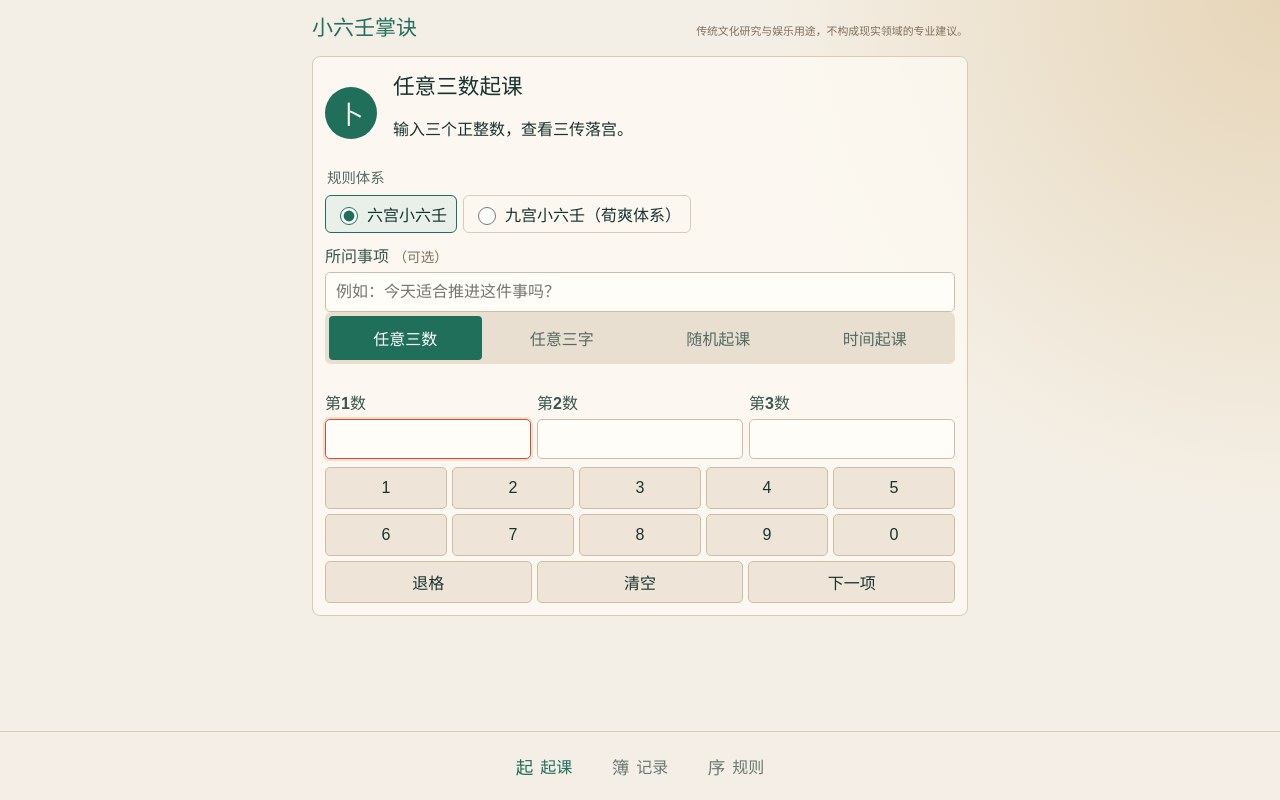
三数起课应用流程 › starts a random divination and exposes a compact change-set action
The width and height of the screenshot is (1280, 800).
Click the tab "随机起课" at x=718, y=338, box [642,316,794,360]
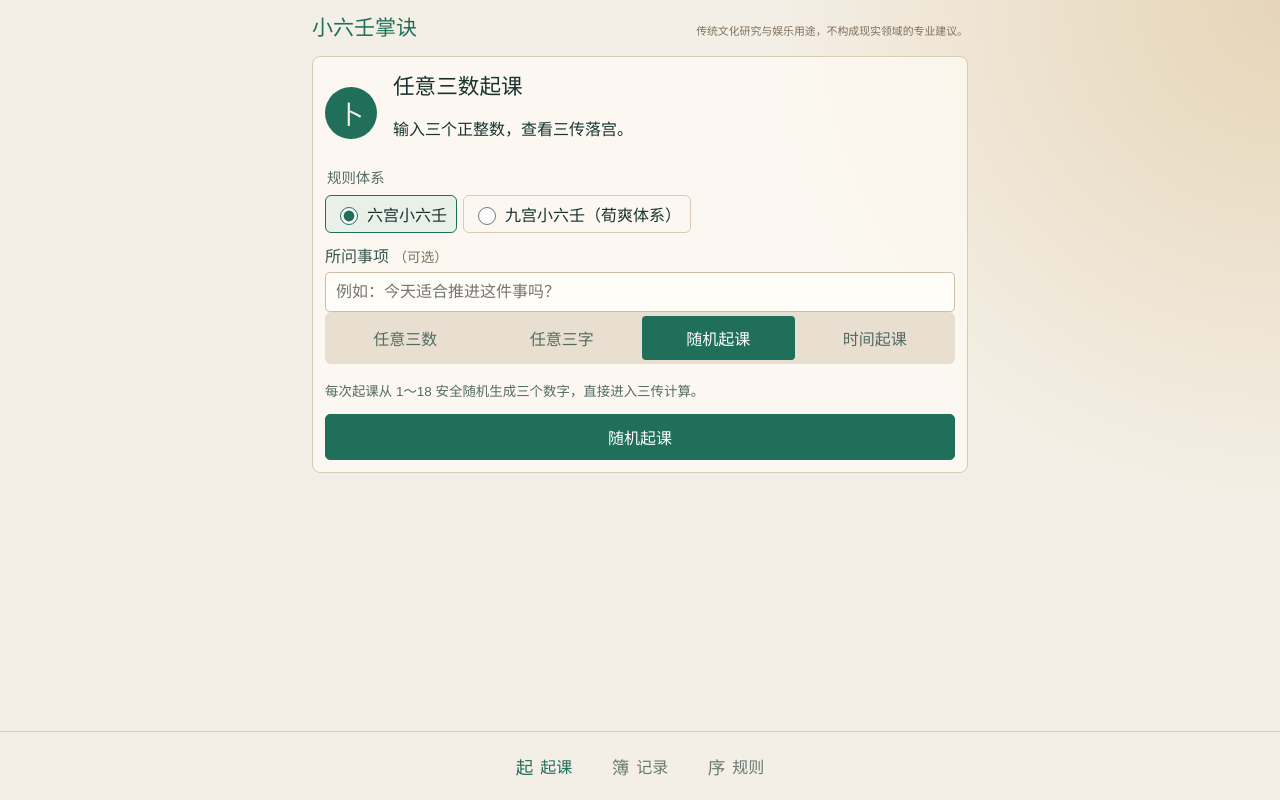
Click the button "随机起课" at x=640, y=437, box [325,414,955,460]
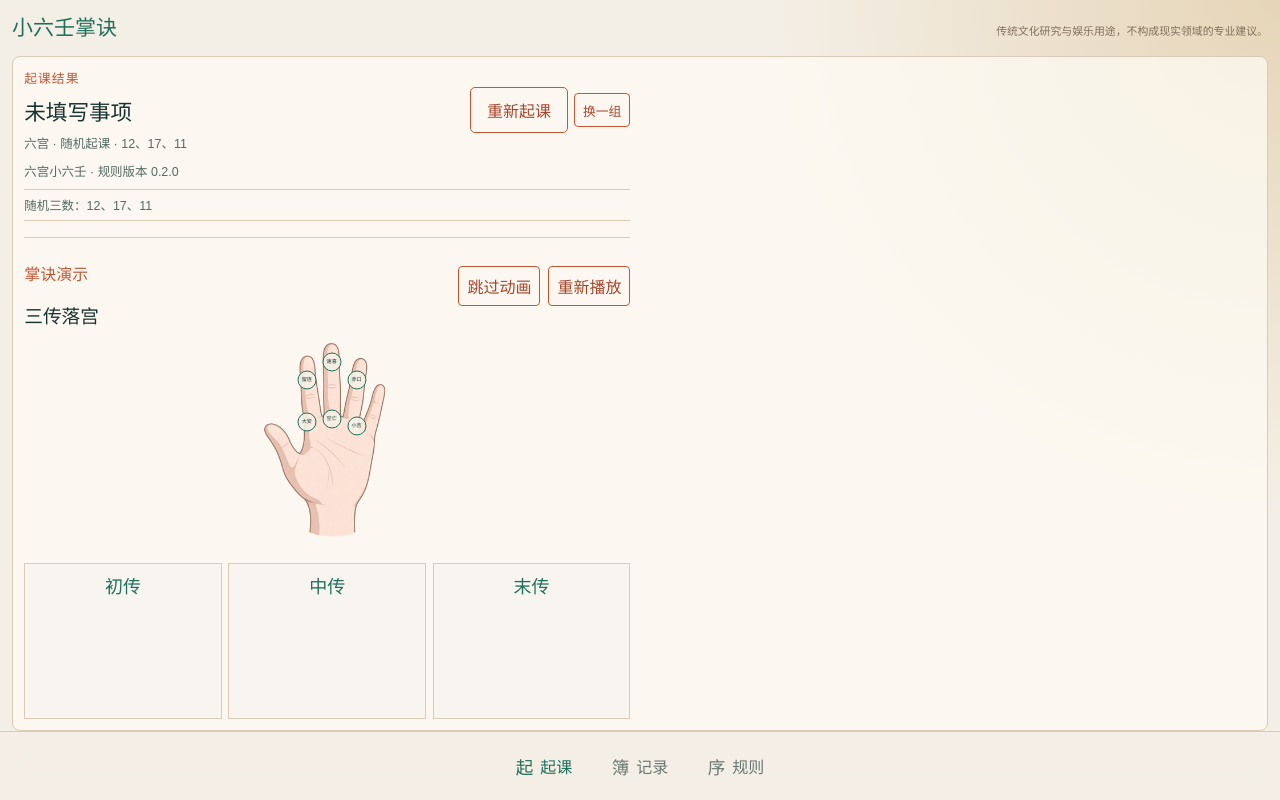
Click the button "跳过动画" at x=499, y=286, box [458,266,540,306]
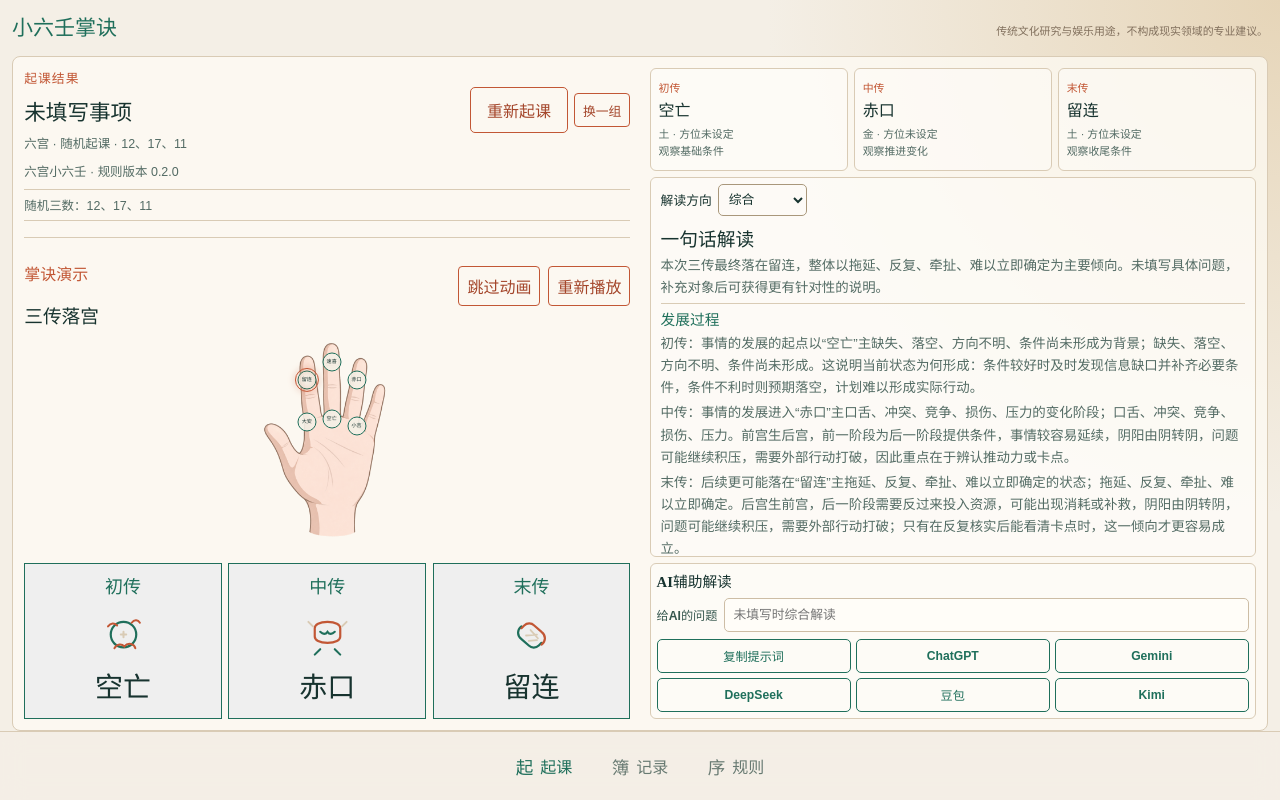
Result: the button "换一组" is shown at [574,93,630,127]
Click the button "重新起课" at x=519, y=110, box [470,87,568,133]
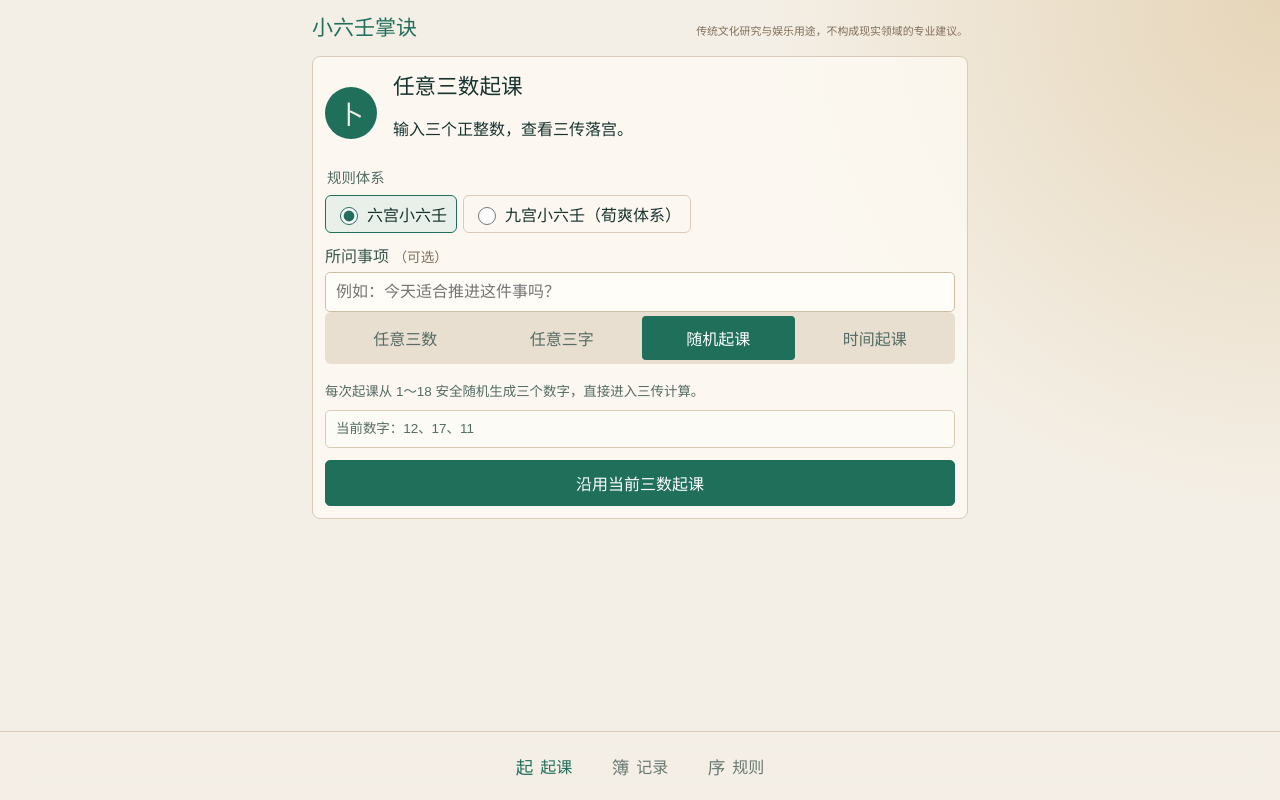
Result: the text "当前数字：12、17、11" is shown at [325,410,955,448]
Result: the button "沿用当前三数起课" is shown at [325,460,955,506]
